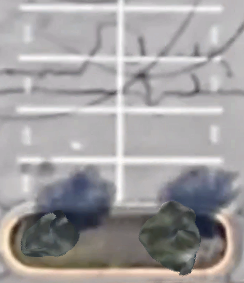Vacant: (120, 7, 222, 60), (19, 58, 121, 111), (120, 59, 222, 112), (19, 7, 120, 59), (120, 110, 222, 160), (19, 111, 120, 160), (120, 160, 222, 207), (19, 161, 119, 207)
